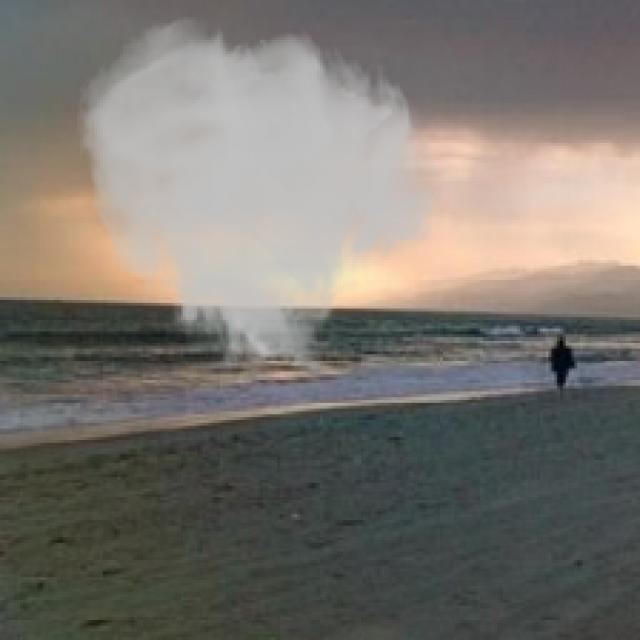smoke: (74, 14, 440, 386)
